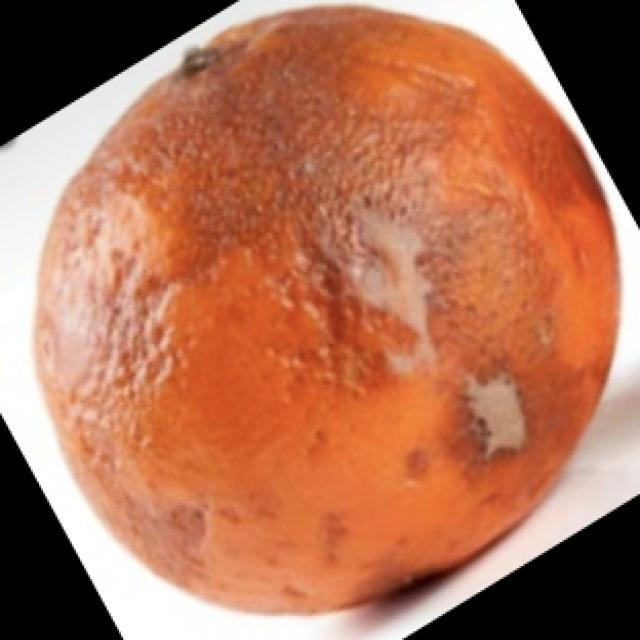sangat-busuk: (36, 9, 617, 612)
